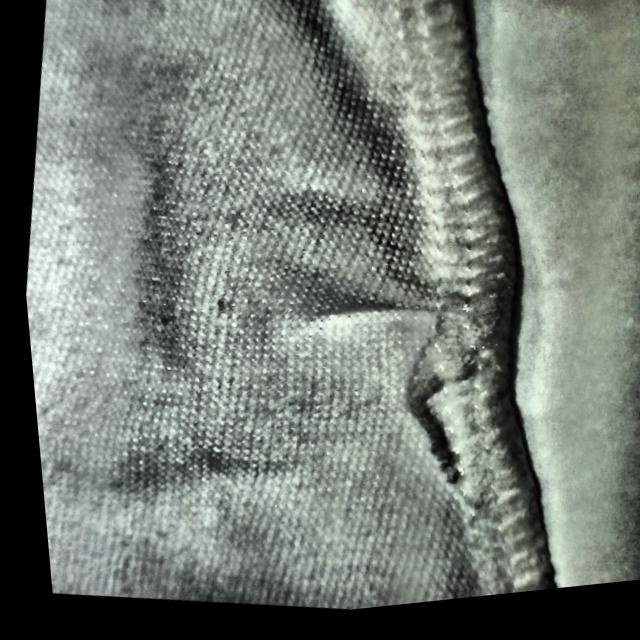seam: (299, 238, 544, 499)
